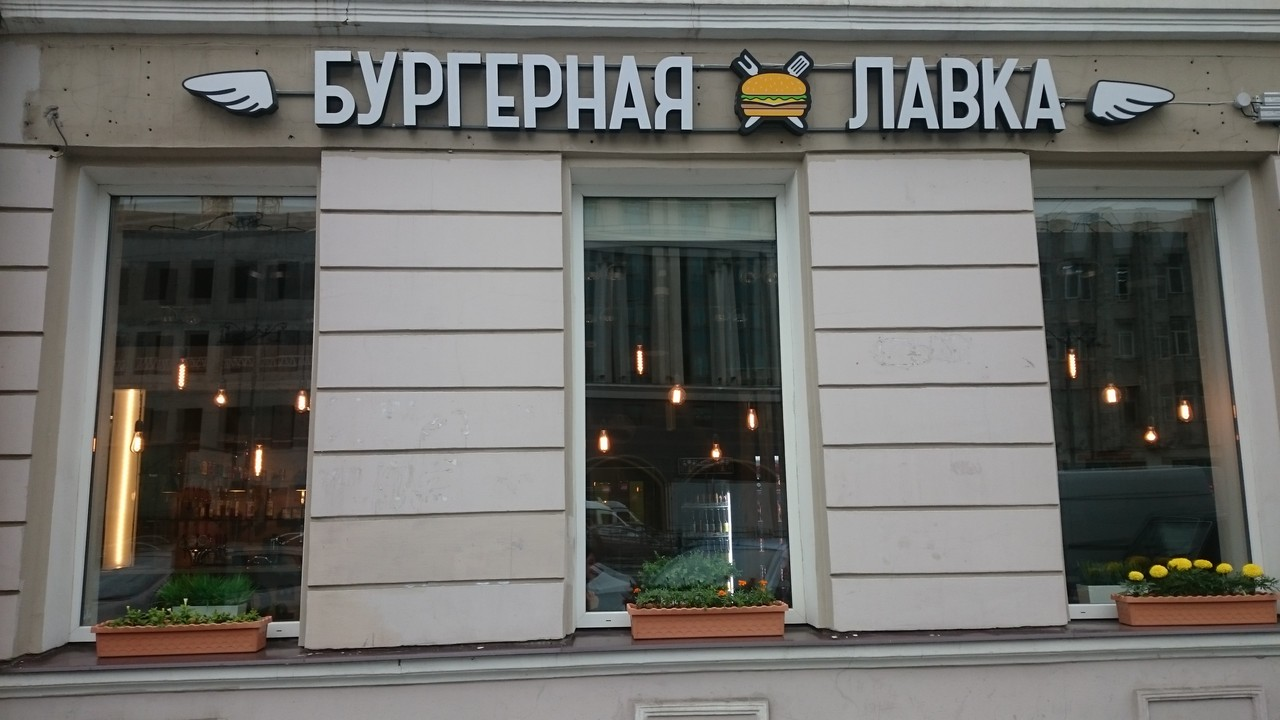signboard: (175, 48, 1191, 134)
window: (66, 186, 318, 647), (1027, 162, 1269, 624), (572, 172, 809, 629)
